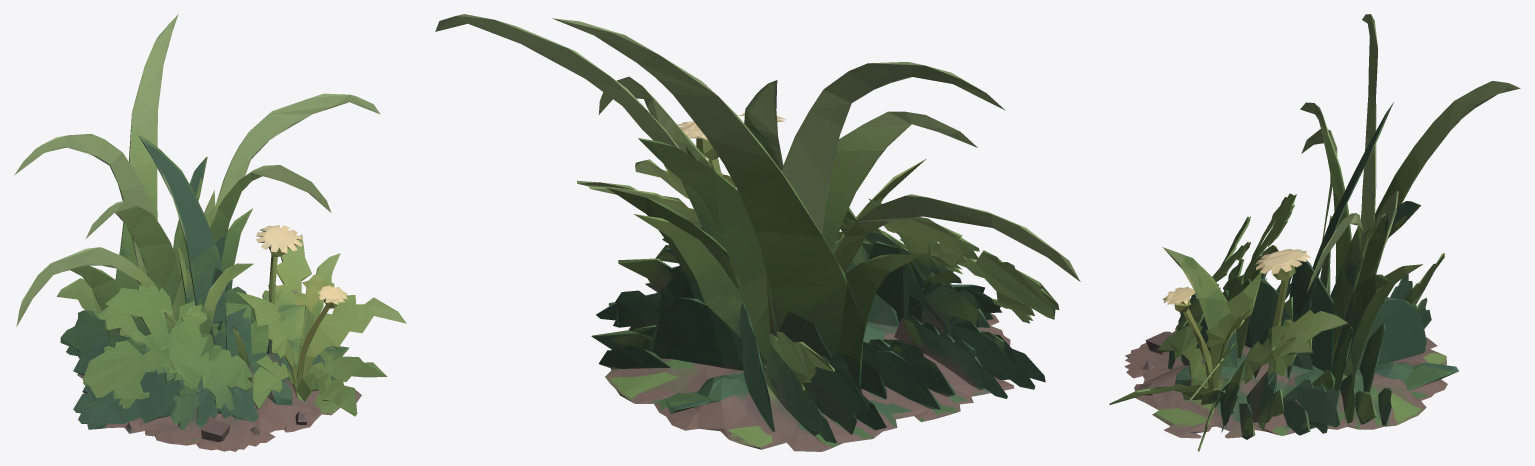
Rendered from grass_tuft.glb.
3 renders of one model, left to right at view 1: azimuth 30°, elevation 25°; view 2: azimuth 150°, elevation 25°; view 3: azimuth 270°, elevation 25°, orthographic. The views are drawn at different scales.
Visible parts, largest first — view 1: grass_tuft; view 2: grass_tuft; view 3: grass_tuft.
Part boxes in pixels (x1,y1,x2,y2): grass_tuft: (14, 14, 406, 451); grass_tuft: (435, 14, 1080, 451); grass_tuft: (1109, 14, 1520, 451).
Bounding box in the file's own units: 0.5811 × 0.4 × 0.4501.
Materials: 1 (1 with a texture image).
